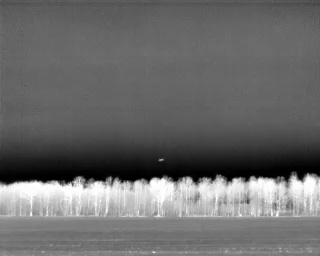DRONE: (156, 154, 167, 165)
